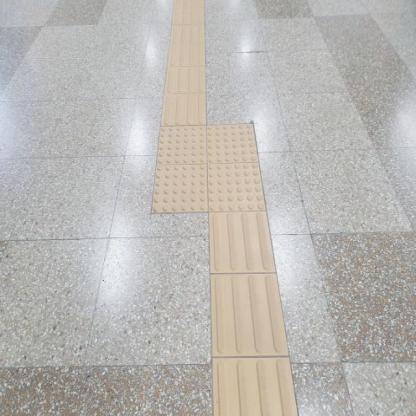podotacti: (131, 90, 308, 255), (208, 211, 299, 416), (161, 0, 206, 123)
